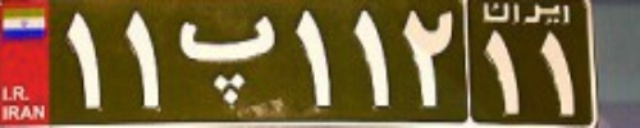1: (118, 10, 162, 108), (294, 10, 336, 106), (479, 26, 522, 115), (65, 12, 103, 110), (352, 9, 388, 107), (539, 29, 577, 116)
2: (401, 9, 458, 108)
pe: (177, 13, 283, 105)
